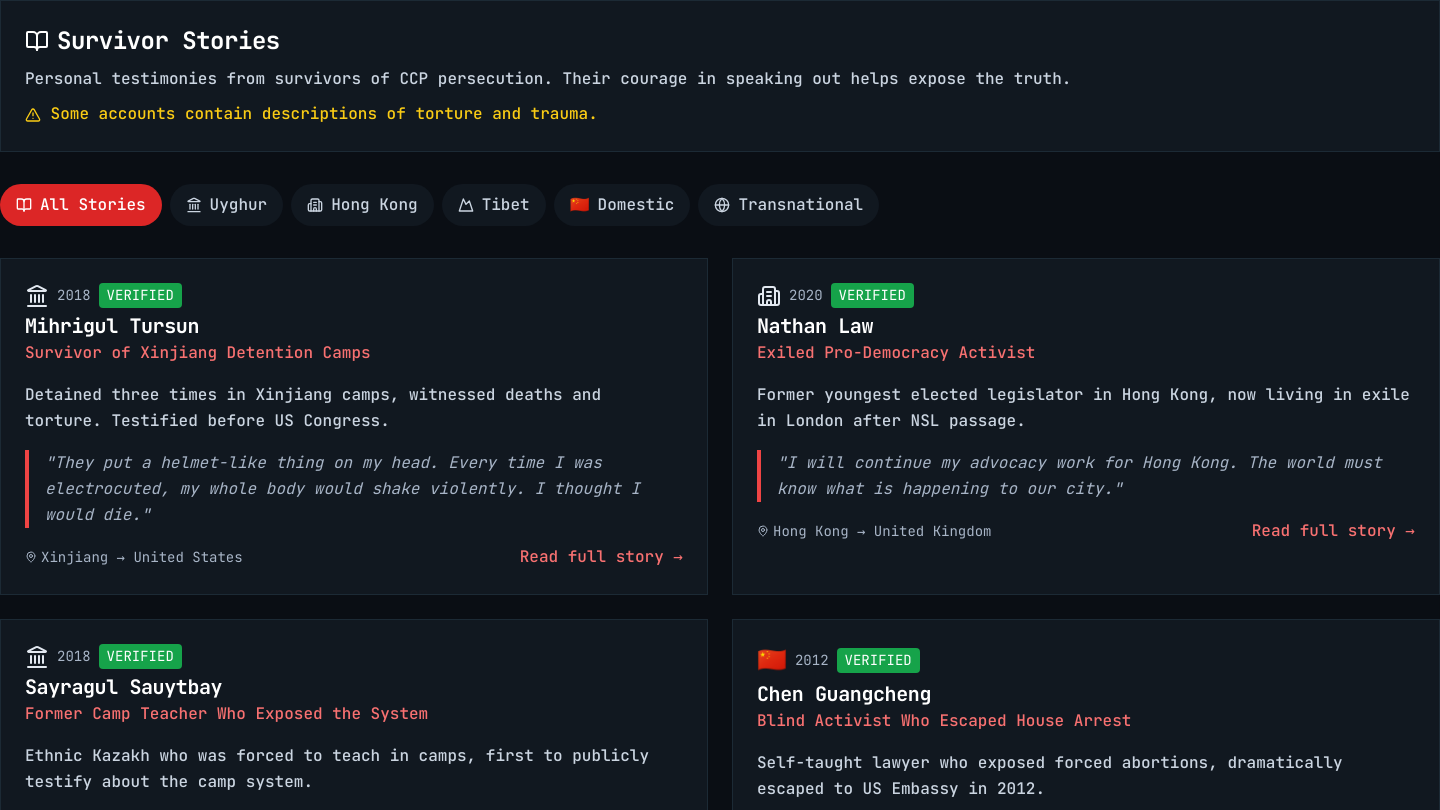
Scenario: VictimStories › filters stories by Uyghur category
Click the button "Uyghur" at (226, 205), box x1=170 y1=184 x2=283 y2=226
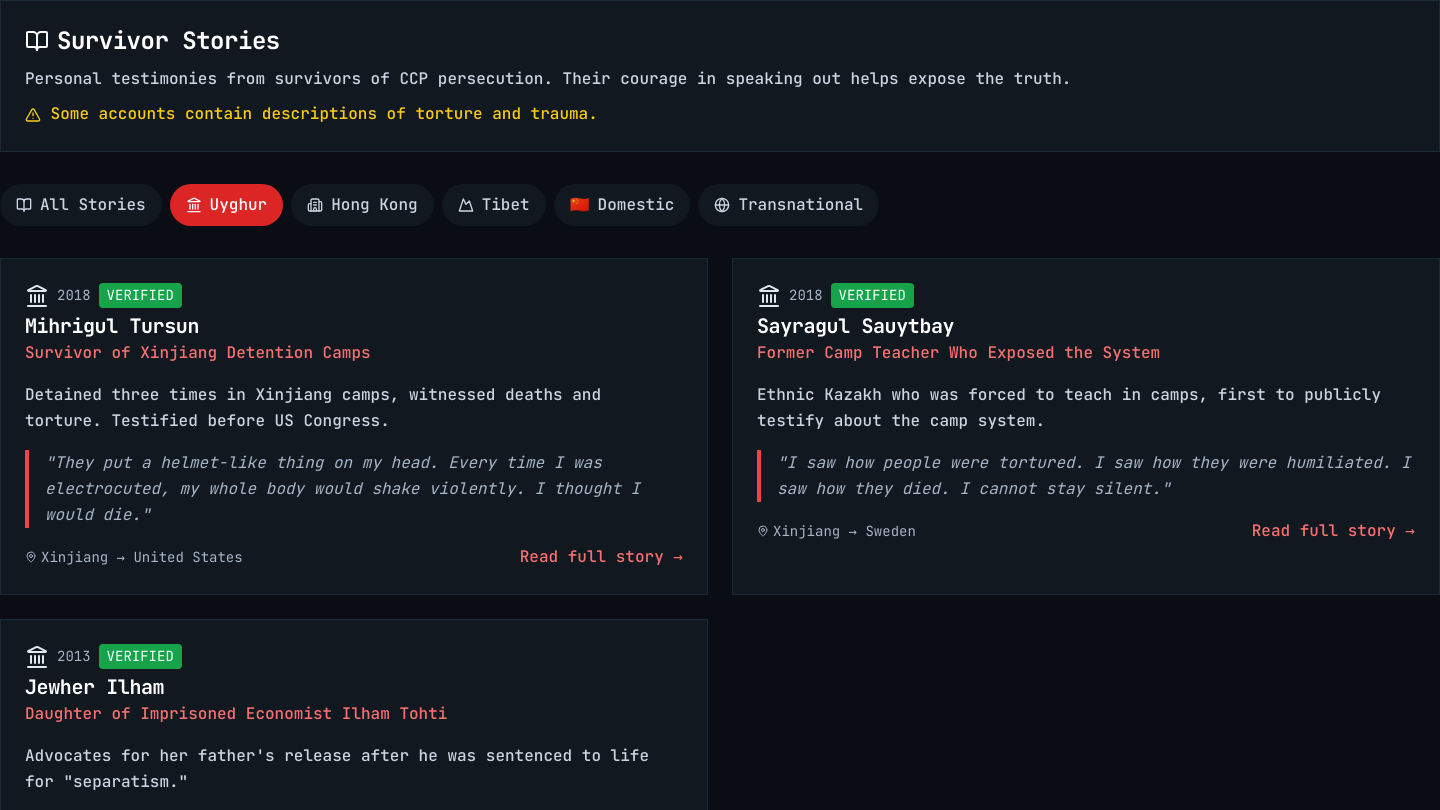
expect the heading "Mihrigul Tursun" is shown: met, box x1=25 y1=313 x2=199 y2=339
expect the heading "Nathan Law" is gone: met
